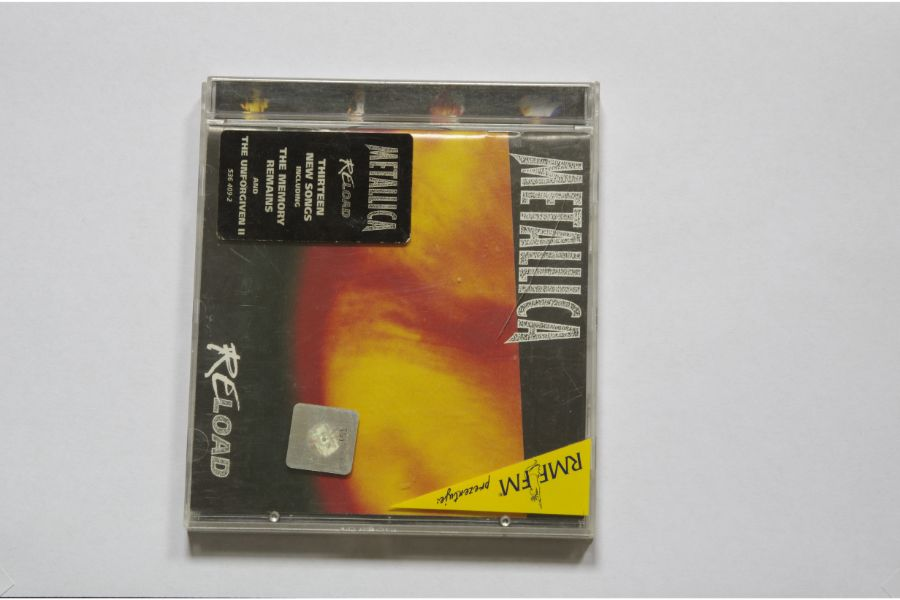album: (184, 75, 599, 543)
